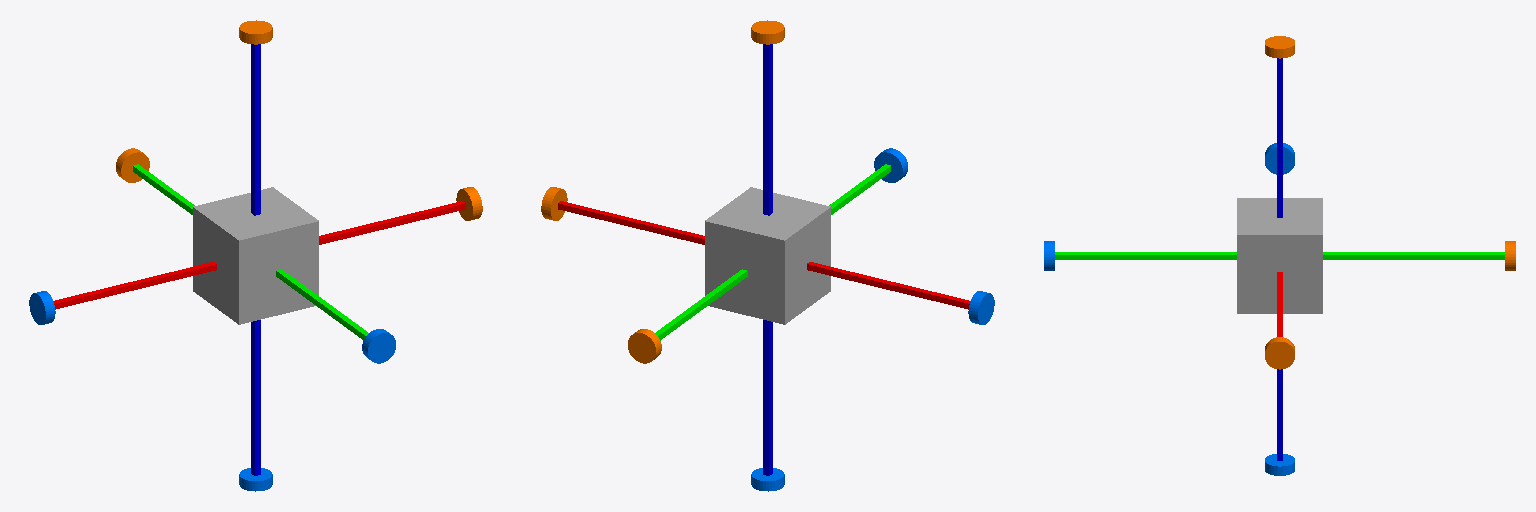
URDF robot description (DAI):
<?xml version="1.0"?>
<robot xmlns:xacro="http://www.ros.org/wiki/xacro" name = "DAI">
	<!-- links section -->>

	<material name = "Grey 7 Transparent 8">
		<color rgba = "0.7 0.7 0.7 0.8" />
	</material>


	<material name = "Red">
		<color rgba = "1.0 0.0 0.0 1" />
	</material>

	<material name = "Green">
		<color rgba = "0.0 1.0 0.0 1" />
	</material>

	<material name = "Blue">
		<color rgba = "0.0 0.0 1.0 1" />
	</material>


	<material name = "Cyan">
		<color rgba = "0.0 1.0 1.0 1" />
	</material>

	<material name = "Magenta">
		<color rgba = "1.0 0.0 1.0 1" />
	</material>

	<material name = "Yellow">
		<color rgba = "1.0 1.0 0.0 1" />
	</material>


	<material name = "Pink">
		<color rgba = "1.0 0.0 0.5 1" />
	</material>

	<material name = "Orange">
		<color rgba = "1.0 0.5 0.0 1" />
	</material>


	<material name = "Chartreuse">
		<color rgba = "0.5 1.0 0.0 1" />
	</material>

	<material name = "SpringGreen">
		<color rgba = "0.0 1.0 0.5 1" />
	</material>


	<material name = "Azure">
		<color rgba = "0.0 0.5 1.0 1" />
	</material>

	<material name = "Violet">
		<color rgba = "0.5 0.0 1.0 1" />
	</material>


	
	<link name = "Body">
		<inertial>
			<origin xyz = "0 0 0" />
			<mass value = "37" />
			<inertia ixx = "0.75" iyy = "0.75" izz = "0.75" ixy = "0" ixz = "0" iyz = "0" />
		</inertial>
		<visual>
			<origin xyz = "0 0 0" />
			<geometry>
				<box size = "0.35 0.35 0.35" />
			</geometry>
			<material name = "Grey 7 Transparent 8" />				
		</visual>
		<collision>
     			<geometry>
        			<box size= "0.35 0.35 0.35" />
      			</geometry>
      			<origin xyz="0 0 0" rpy="0 0 0" />
    		</collision>
	</link>


	<link name = "Slider1">
		<inertial>
			<origin xyz = "0 0 0" />
			<mass value = "1.5" />
			<inertia ixx = "0.28" iyy = "0" izz = "0.28" ixy = "0" ixz = "0" iyz = "0" />
		</inertial>
		<visual>
			<origin xyz = "0 0 0" />
			<geometry>
				<box size = "1.858 0.025 0.025" />
			</geometry>
			<material name = "Red"/>		
		</visual>
		<collision>
     			<geometry>
        			<box size= "1.858 0.025 0.025" />
      			</geometry>
      			<origin xyz="0 0 0" rpy="0 0 0" />
    		</collision>
	</link>

	<link name = "Slider2">
		<inertial>
			<origin xyz = "0 0 0" />
			<mass value = "1.5" />
			<inertia ixx = "0.28" iyy = "0" izz = "0.28" ixy = "0" ixz = "0" iyz = "0" />
		</inertial>
		<visual>
			<origin xyz = "0 0 0" />
			<geometry>
				<box size = "0.025 1.858 0.025" />
			</geometry>
			<material name = "Green" />			
		</visual>
		<collision>
     			<geometry>
        			<box size= "0.025 1.858 0.025" />
      			</geometry>
      			<origin xyz="0 0 0" rpy="0 0 0" />
    		</collision>
	</link>

	<link name = "Slider3">
		<inertial>
			<origin xyz = "0 0 0" />
			<mass value = "1.5" />
			<inertia ixx = "0.28" iyy = "0" izz = "0.28" ixy = "0" ixz = "0" iyz = "0" />
		</inertial>
		<visual>
			<origin xyz = "0 0 0" />
			<geometry>
				<box size = "0.025 0.025 1.858" />
			</geometry>			
			<material name = "Blue" />			
		</visual>
		<collision>
     			<geometry>
        			<box size= "0.025 0.025 1.858" />
      			</geometry>
      			<origin xyz="0 0 0" rpy="0 0 0" />
    		</collision>
	</link>


	<link name = "Wheel1a">
		<inertial>
			<origin xyz = "0.929 0 0" rpy="0 1.5707963268 0"/>
			<mass value = "0.315" />
			<inertia ixx = "0.004" iyy = "0.004" izz = "0.001" ixy = "0" ixz = "0" iyz = "0" />
		</inertial>
		<visual>
			<origin xyz = "0.929 0 0" rpy="0 1.57079632687 0"/>
			<geometry>
				<cylinder radius = "0.0625"  length = "0.042" />
			</geometry>			
			<material name = "Orange" /> #Orange		
		</visual>
		<collision>
     			<geometry>
        			<cylinder radius = "0.0625"  length = "0.042" />
      			</geometry>
      			<origin xyz="0.929 0 0" rpy="0 1.5707963268 0" />
    		</collision>
	</link>

	<link name = "Wheel1b">
		<inertial>
			<origin xyz = "-0.929 0 0" rpy="0 4.7123889804 0"/>
			<mass value = "0.315" />
			<inertia ixx = "0.004" iyy = "0.004" izz = "0.001" ixy = "0" ixz = "0" iyz = "0" />
		</inertial>
		<visual>
			<origin xyz = "-0.929 0 0" rpy="0 4.7123889804 0"/>
			<geometry>
				<cylinder radius = "0.0625"  length = "0.042" />
			</geometry>		
			<material name = "Azure" /> #Pink		
		</visual>
		<collision>
     			<geometry>
        			<cylinder radius = "0.0625"  length = "0.042" />
      			</geometry>
      			<origin xyz="-0.929 0 0" rpy="0 4.7123889804 0" />
    		</collision>
	</link>

	<link name = "Wheel2a">
		<inertial>
			<origin xyz = "0 0.929 0" rpy="4.7123889804 0 0"/>
			<mass value = "0.315" />
			<inertia ixx = "0.004" iyy = "0.004" izz = "0.001" ixy = "0" ixz = "0" iyz = "0" />
		</inertial>
		<visual>
			<origin xyz = "0 0.929 0" rpy="4.7123889804 0 0"/>
			<geometry>
				<cylinder radius = "0.0625"  length = "0.042" />
			</geometry>		
			<material name = "Orange" /> #Chartreuse
		</visual>
		<collision>
     			<geometry>
        			<cylinder radius = "0.0625"  length = "0.042" />
      			</geometry>
      			<origin xyz="0 0.929 0" rpy="4.7123889804 0 0" />
    		</collision>
	</link>

	<link name = "Wheel2b">
		<inertial>
			<origin xyz = "0 -0.929 0" rpy="1.57079632687 0 0"/>
			<mass value = "0.315" />
			<inertia ixx = "0.004" iyy = "0.004" izz = "0.001" ixy = "0" ixz = "0" iyz = "0" />
		</inertial>
		<visual>
			<origin xyz = "0 -0.929 0" rpy="1.57079632687 0 0"/>
			<geometry>
				<cylinder radius = "0.0625"  length = "0.042" />
			</geometry>		
			<material name = "Azure" /> #SpringGreen
		</visual>
		<collision>
     			<geometry>
        			<cylinder radius = "0.0625"  length = "0.042" />
      			</geometry>
      			<origin xyz="0 -0.929 0" rpy="1.57079632687 0 0" />
    		</collision>
	</link>

	<link name = "Wheel3a">
		<inertial>
			<origin xyz = "0 0 0.929" rpy="0 0 0"/>
			<mass value = "0.315" />
			<inertia ixx = "0.004" iyy = "0.004" izz = "0.001" ixy = "0" ixz = "0" iyz = "0" />
		</inertial>
		<visual>
			<origin xyz = "0 0 0.929" rpy="0 0 0"/>
			<geometry>
				<cylinder radius = "0.0625"  length = "0.042" />
			</geometry>			
			<material name = "Orange" /> #Azure	
		</visual>
		<collision>
     			<geometry>
        			<cylinder radius = "0.0625"  length = "0.042" />
      			</geometry>
      			<origin xyz="0 0 0.929" rpy="0 0 0" />
    		</collision>
	</link>
	
	<link name = "Wheel3b">
		<inertial>
			<origin xyz = "0 0 -0.929" rpy="3.1415926536 0 0"/>
			<mass value = "0.315" />
			<inertia ixx = "0.004" iyy = "0.004" izz = "0.001" ixy = "0" ixz = "0" iyz = "0" />
		</inertial>
		<visual>
			<origin xyz = "0 0 -0.929" rpy="3.1415926536 0 0"/>
			<geometry>
				<cylinder radius = "0.0625"  length = "0.042" />
			</geometry>			
			<material name = "Azure" /> #Violet		
		</visual>
		<collision>
     			<geometry>
        			<cylinder radius = "0.0625"  length = "0.042" />
      			</geometry>
      			<origin xyz="0 0 -0.929" rpy="3.1415926536 0 0" />
    		</collision>
	</link>
	
	

	<!-- joints section -->>

<!--  <limit> lower and upper (m) behave as expected, effort (Nm) and velocity (m/s) don't seem to have any effect in pybullet -->
<!--  <dynamics> damping and friction don't seem to have any effect in pybullet -->

	<joint name = "SliderMotor1" type = "prismatic">
		<parent link = "Body" />
		<child link = "Slider1" />
		<origin xyz = "0 0 0" />
		<axis xyz = "1 0 0" />
		<limit effort="575" lower="-0.3" upper="0.3" velocity="0.55"/> 
	</joint>

	<joint name = "SliderMotor2" type = "prismatic">
		<parent link = "Body" />
		<child link = "Slider2" />
		<origin xyz = "0 0 0" />
		<axis xyz = "0 1 0" />
		<limit effort="575" lower="-0.3" upper="0.3" velocity="0.55"/> 
	</joint>

	<joint name = "SliderMotor3" type = "prismatic">
		<parent link = "Body" />
		<child link = "Slider3" />
		<origin xyz = "0 0 0" />
		<axis xyz = "0 0 1" />
		<limit effort="575" lower="-0.3" upper="0.3" velocity="0.55"/> 
	</joint>


	<joint name = "WheelMotor1a" type = "continuous">
		<parent link = "Slider1" />
		<child link = "Wheel1a" />
		<origin xyz = "0 0 0" />
		<axis xyz = "1 0 0" />
		<dynamics damping ="0" friction="0" /> #needs a bit of looking into
	</joint>

	<joint name = "WheelMotor1b" type = "continuous">
		<parent link = "Slider1" />
		<child link = "Wheel1b" />
		<origin xyz = "0 0 0" />
		<axis xyz = "-1 0 0" />
		<dynamics damping ="0" friction="0" />
	</joint>
	
	<joint name = "WheelMotor2a" type = "continuous">
		<parent link = "Slider2" />
		<child link = "Wheel2a" />
		<origin xyz = "0 0 0" />
		<axis xyz = "0 1 0" />
		<dynamics damping ="0" friction="0" />
	</joint>

	<joint name = "WheelMotor2b" type = "continuous">
		<parent link = "Slider2" />
		<child link = "Wheel2b" />
		<origin xyz = "0 0 0" />
		<axis xyz = "0 -1 0" />
		<dynamics damping ="0" friction="0" />
	</joint>

	<joint name = "WheelMotor3a" type = "continuous">
		<parent link = "Slider3" />
		<child link = "Wheel3a" />
		<origin xyz = "0 0 0" />
		<axis xyz = "0 0 1" />
		<dynamics damping ="0" friction="0" />
	</joint>

	<joint name = "WheelMotor3b" type = "continuous">
		<parent link = "Slider3" />
		<child link = "Wheel3b" />
		<origin xyz = "0 0 0" />
		<axis xyz = "0 0 -1" />
		<dynamics damping ="0" friction="0" />
	</joint>

</robot>

--- Facts derived from the render (not from the file) ---
Views: 3 orthographic renders of the robot side by side, from view 1: azimuth 30°, elevation 25°; view 2: azimuth 150°, elevation 25°; view 3: azimuth 270°, elevation 25°.
Model DAI with 10 links and 9 joints (6 continuous, 3 prismatic), rooted at Body, posed all joints at 0.
Links seen in each view (by area): view 1: Body, Slider3, Slider1, Slider2, Wheel2b, Wheel2a, Wheel1b, Wheel3a, Wheel1a, Wheel3b; view 2: Body, Slider3, Slider1, Slider2, Wheel2a, Wheel2b, Wheel1b, Wheel3a, Wheel1a, Wheel3b; view 3: Body, Slider2, Slider3, Wheel1a, Wheel1b, Wheel3a, Wheel3b.
Boxes of the visible links, x1,y1,x2,y2 form: Body: [193, 187, 318, 324]; Slider3: [251, 44, 260, 475]; Slider1: [53, 201, 465, 309]; Slider2: [133, 164, 368, 340]; Wheel2b: [362, 329, 395, 363]; Wheel2a: [116, 148, 149, 182]; Wheel1b: [29, 291, 55, 324]; Wheel3a: [239, 20, 272, 44]; Wheel1a: [456, 187, 482, 220]; Wheel3b: [239, 468, 272, 491]; Body: [705, 187, 830, 324]; Slider3: [763, 44, 772, 475]; Slider1: [558, 201, 970, 309]; Slider2: [655, 164, 890, 340]; Wheel2a: [628, 329, 661, 363]; Wheel2b: [874, 148, 907, 182]; Wheel1b: [968, 291, 994, 324]; Wheel3a: [751, 20, 784, 44]; Wheel1a: [541, 187, 567, 220]; Wheel3b: [751, 468, 784, 491]; Body: [1237, 198, 1322, 313]; Slider2: [1055, 252, 1504, 259]; Slider3: [1277, 58, 1282, 460]; Wheel1a: [1265, 337, 1294, 369]; Wheel1b: [1265, 143, 1294, 174]; Wheel3a: [1265, 36, 1294, 58]; Wheel3b: [1265, 454, 1294, 475].
Size in the robot's own frame: 1.9 by 1.9 by 1.9 metres.
Geometry: primitives only (box / cylinder / sphere), no mesh files.
